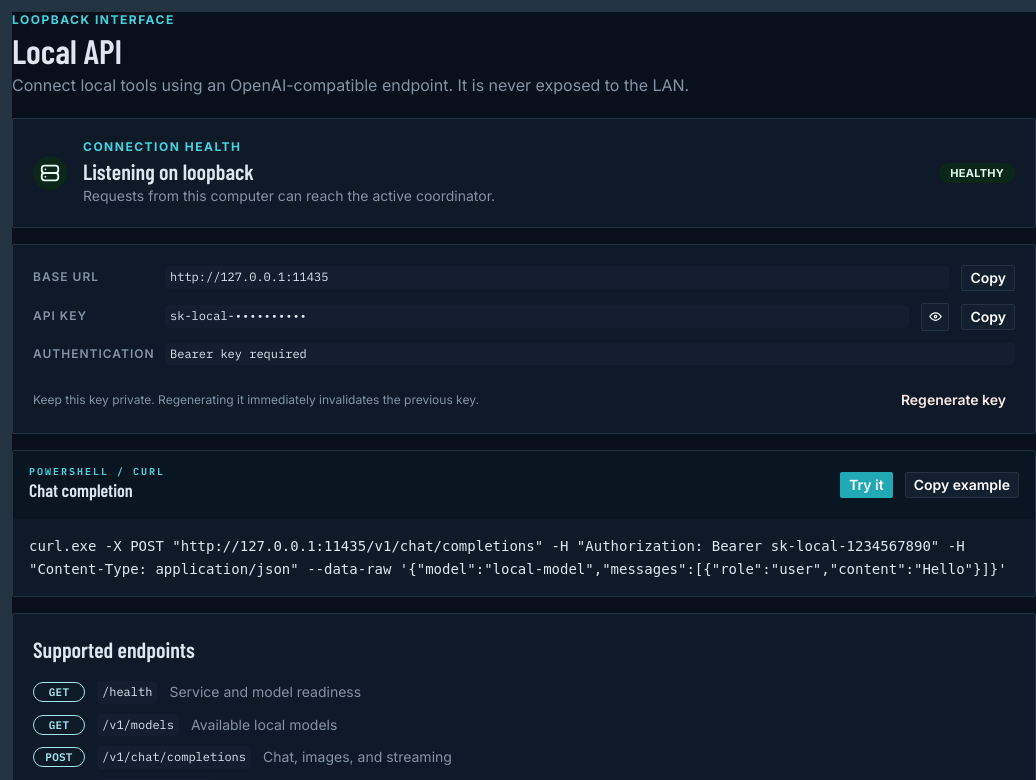
interactive pages › shows example request failures as an actionable error
Check: the heading "Listening on loopback" is shown, box x1=83 y1=158 x2=254 y2=184
Click the button "Try it": [866, 485] box x1=840 y1=472 x2=893 y2=498
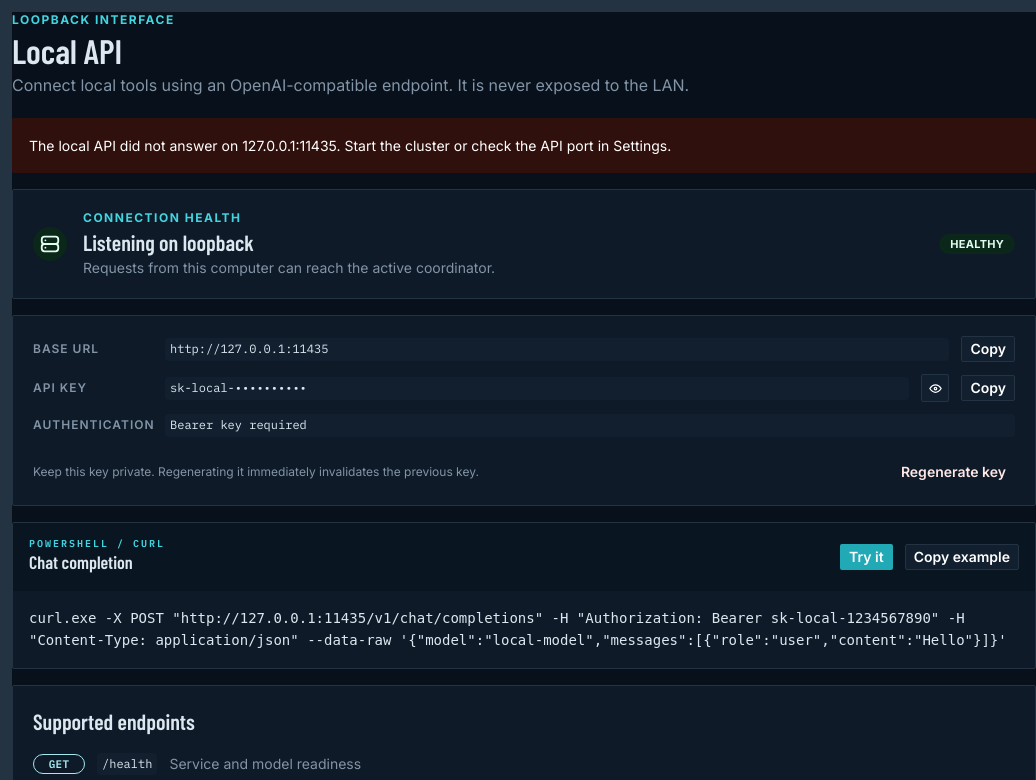
Check: the message shows "Start the cluster or check", box x1=29 y1=137 x2=671 y2=154
